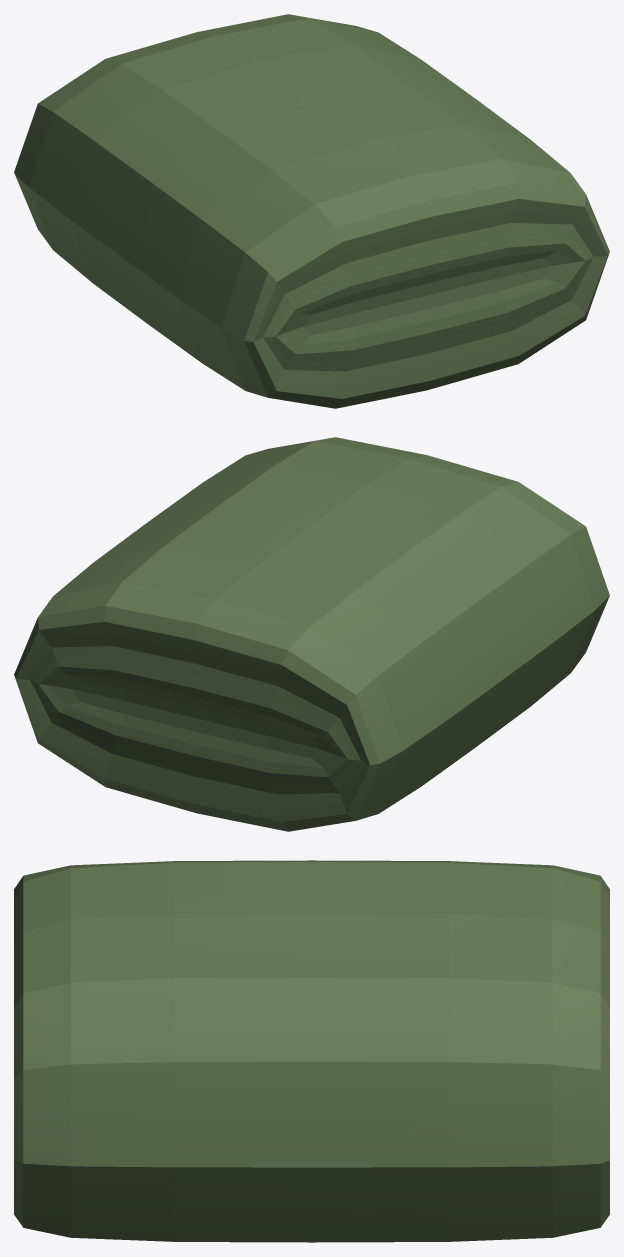
File: Clothes2_C4.fbx
3 renders of one model, top to bottom at view 1: azimuth 30°, elevation 25°; view 2: azimuth 150°, elevation 25°; view 3: azimuth 270°, elevation 25°, orthographic. The views are drawn at different scales.
Visible parts, largest first — view 1: Clothes2_C4; view 2: Clothes2_C4; view 3: Clothes2_C4.
Part boxes in pixels (x1=…): Clothes2_C4: x1=14, y1=14, x2=609, y2=408; Clothes2_C4: x1=14, y1=437, x2=609, y2=831; Clothes2_C4: x1=14, y1=860, x2=609, y2=1242.
Bounding box in the file's own units: 21.86 × 12.06 × 23.8.
